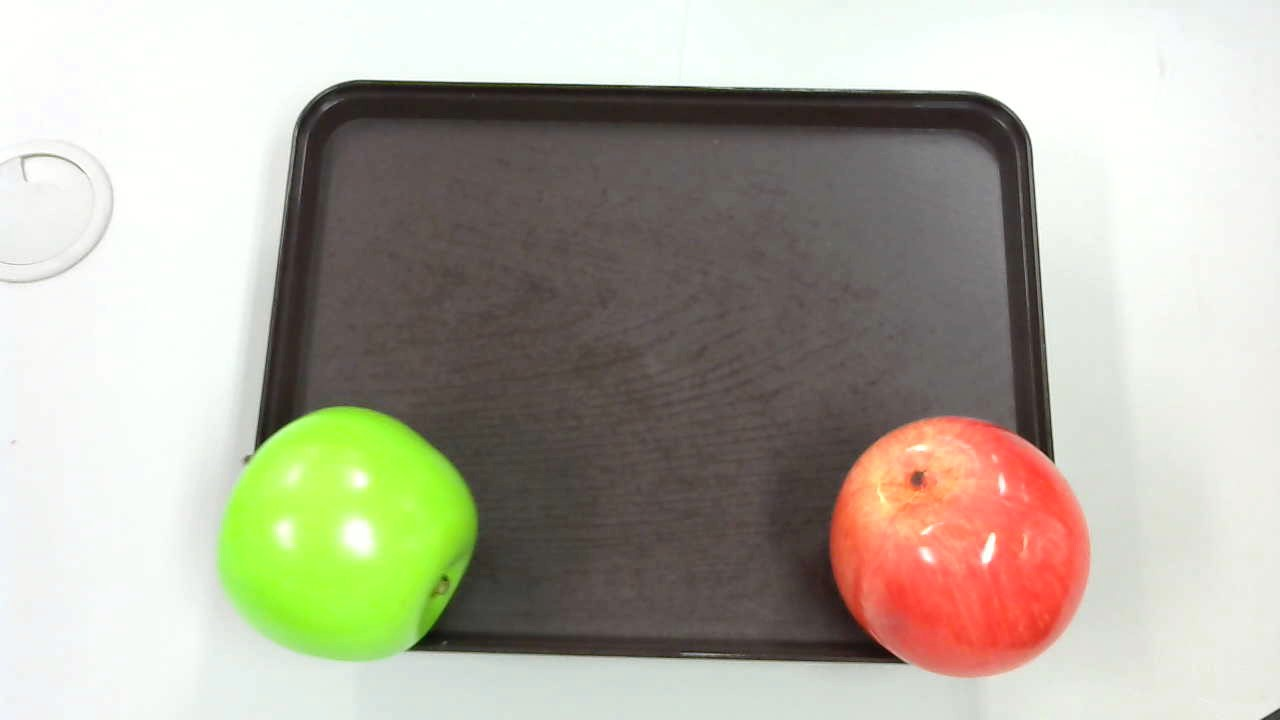green apple: (224, 404, 482, 663)
red apple: (827, 412, 1095, 680)
